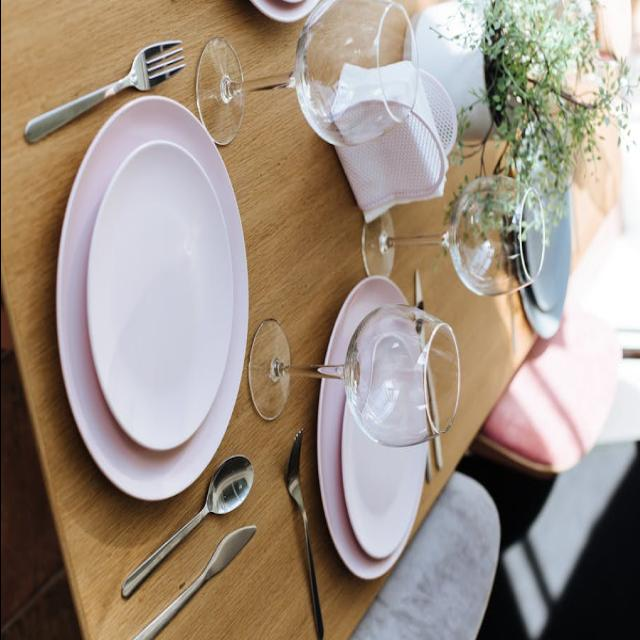spoon: (119, 454, 252, 596)
